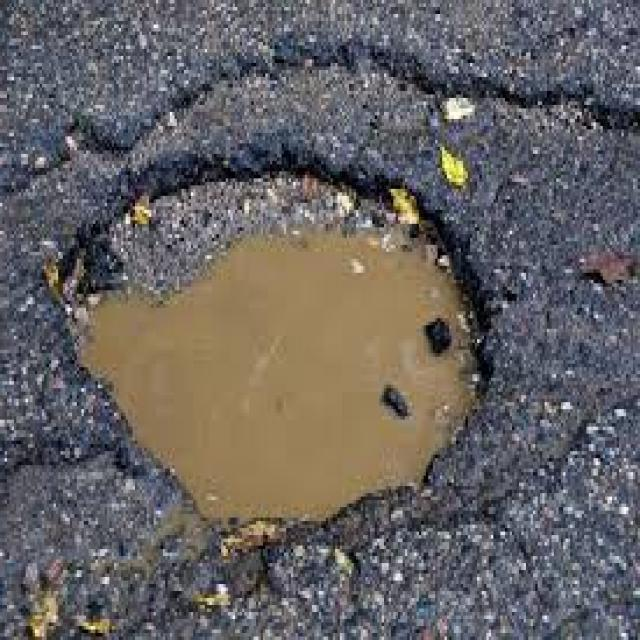Pothole: (40, 145, 499, 535)
